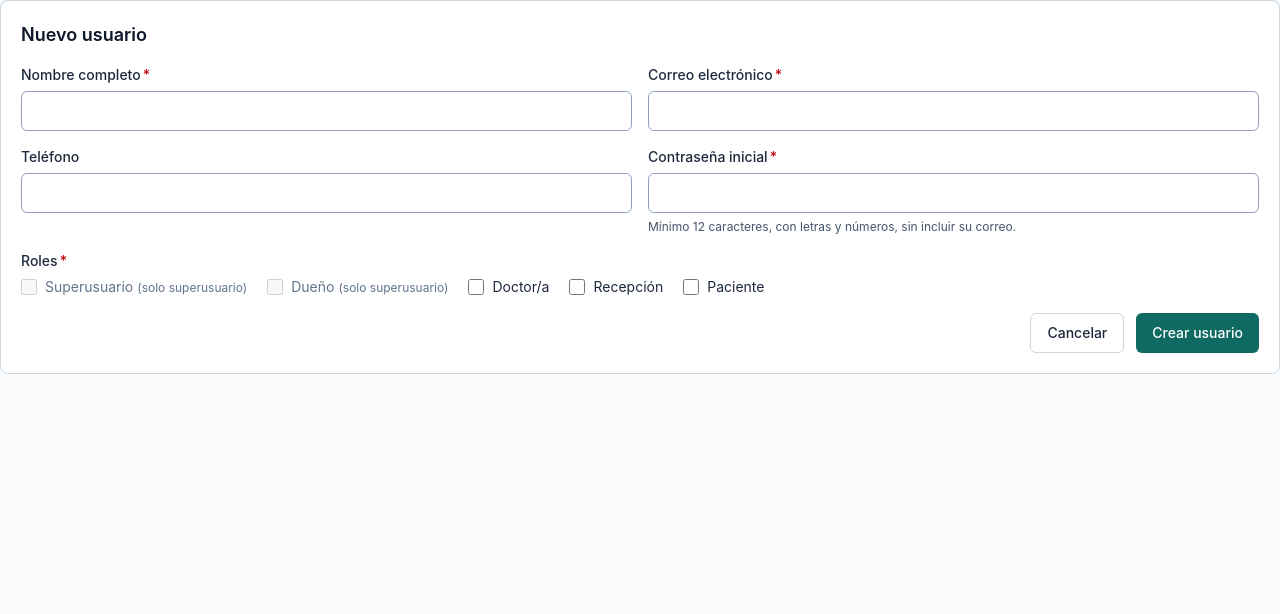
UserCreateForm › envía doctor_profile solo para doctores y muestra el 409 junto al correo
Type "Dra. Prueba" into the field labelled "Nombre completo*" at (326, 111), box x1=21 y1=91 x2=632 y2=131
Type "dra@clinica-demo.pe" into the field labelled "Correo electrónico*" at (954, 111), box x1=648 y1=91 x2=1259 y2=131
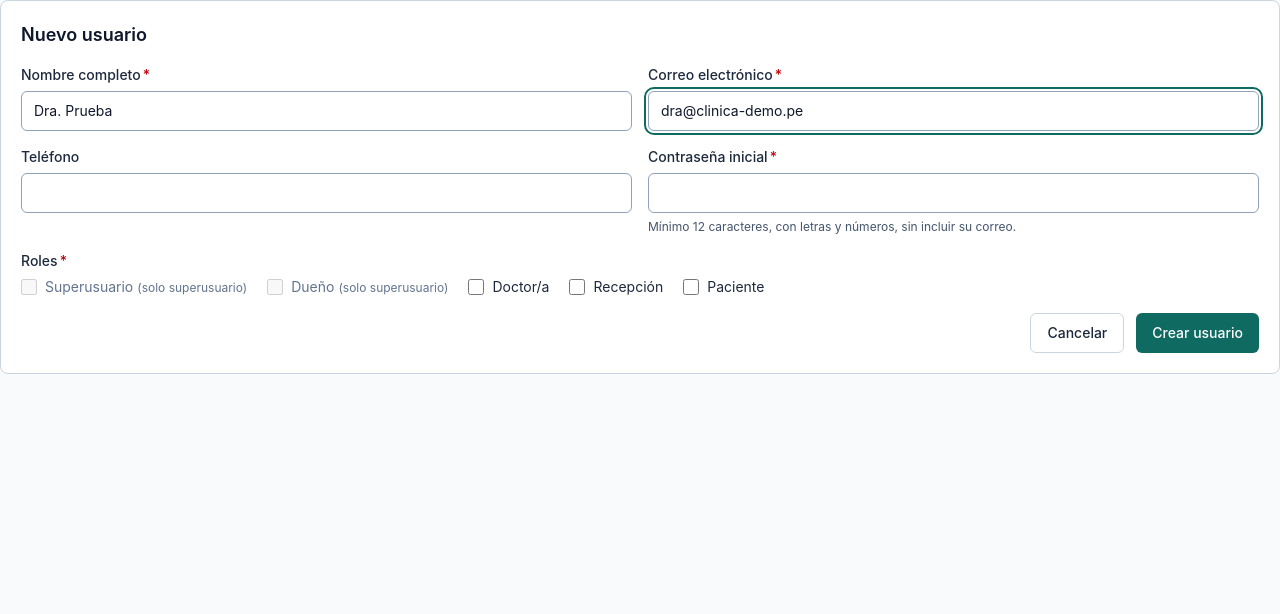
Type "Clave-Segura-2026" into the password field labelled "Contraseña inicial*" at (954, 193), box x1=648 y1=173 x2=1259 y2=213
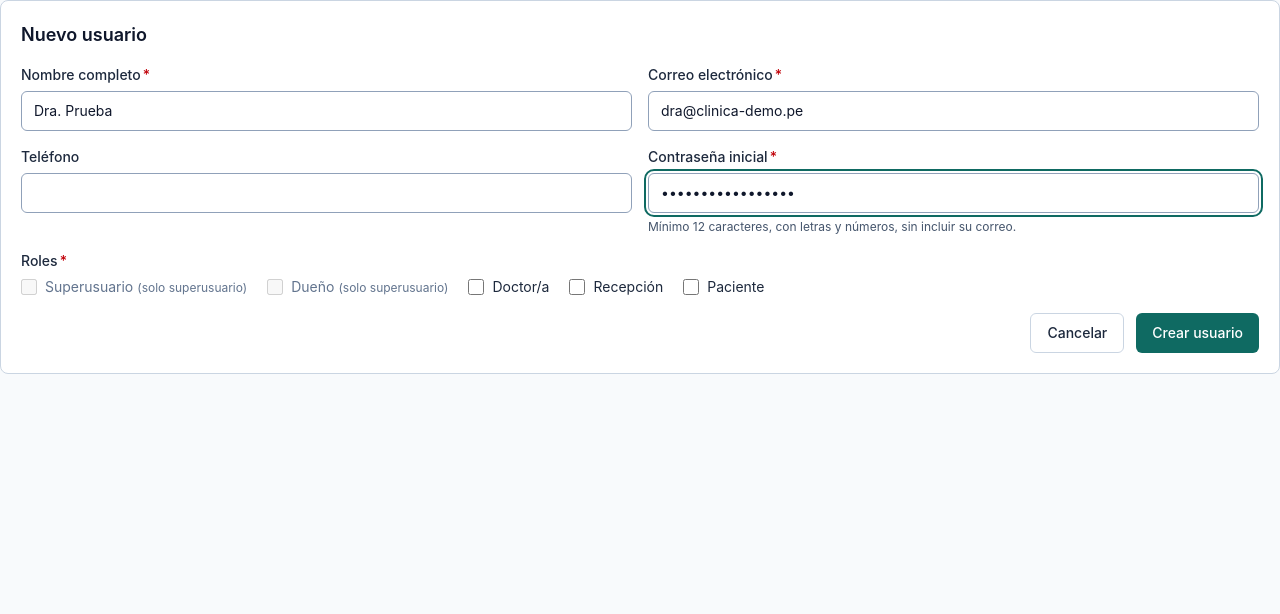
Click the checkbox labelled "Doctor/a" at (476, 287), box x1=468 y1=279 x2=484 y2=295
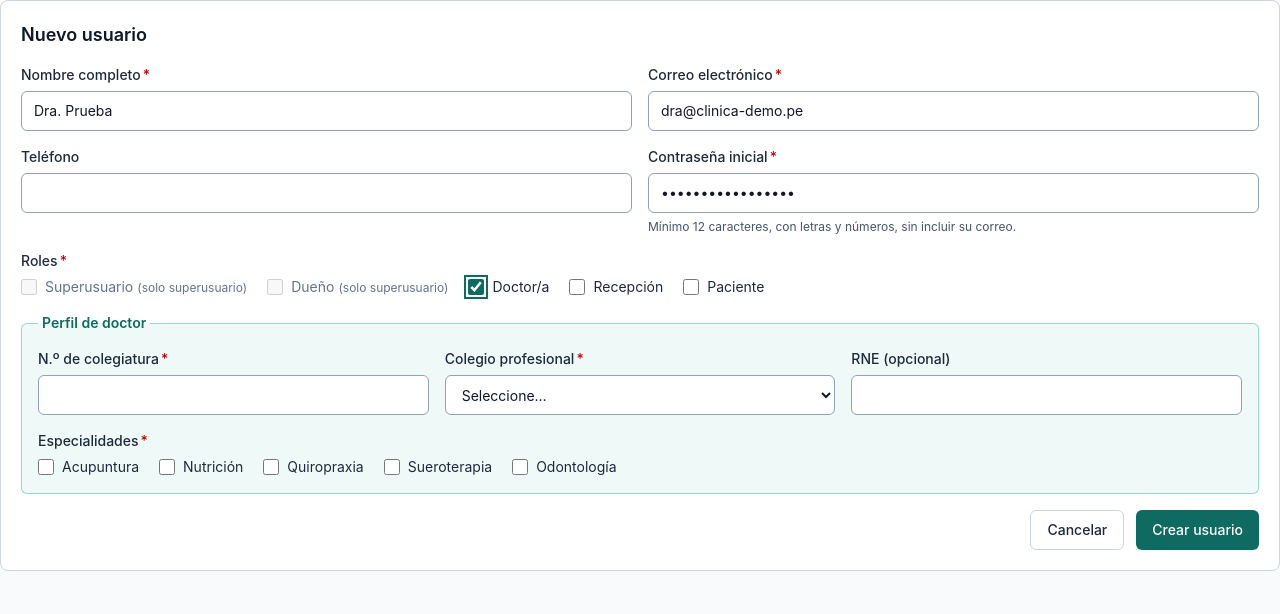
Type "12345" into the field labelled "N.º de colegiatura*" at (233, 395), box x1=38 y1=375 x2=429 y2=415
Select "CMP · Colegio Médico del Perú" in the dropdown labelled "Colegio profesional*" at (640, 395), box x1=445 y1=375 x2=835 y2=415
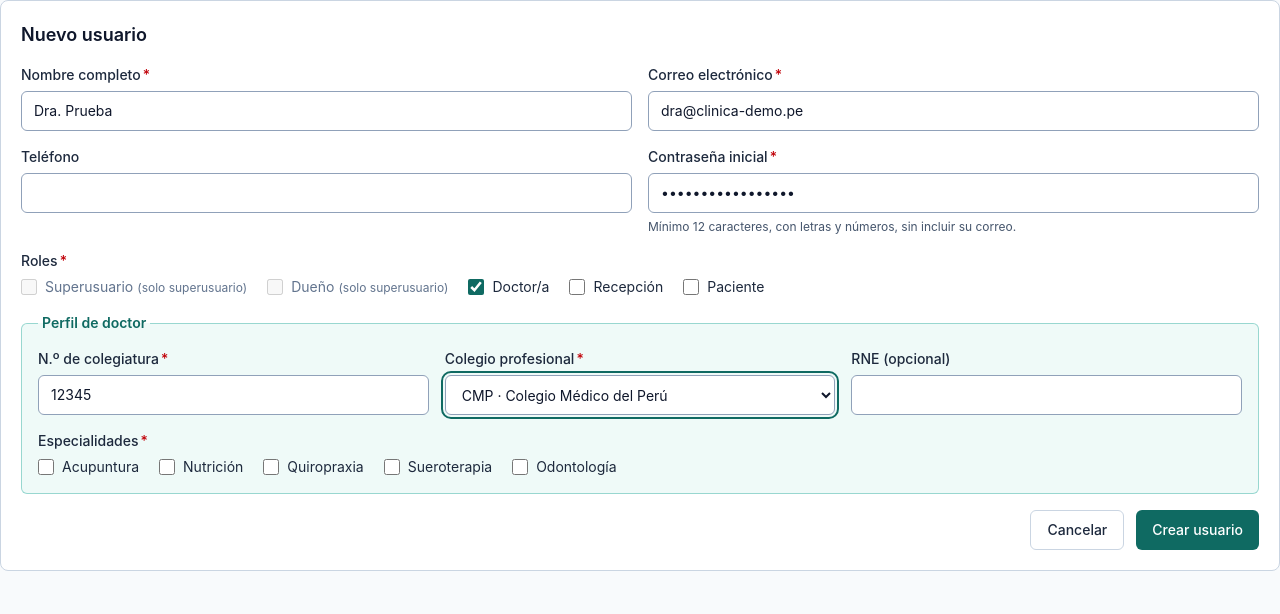
Click the checkbox labelled "Nutrición" at (167, 467), box x1=159 y1=459 x2=175 y2=475
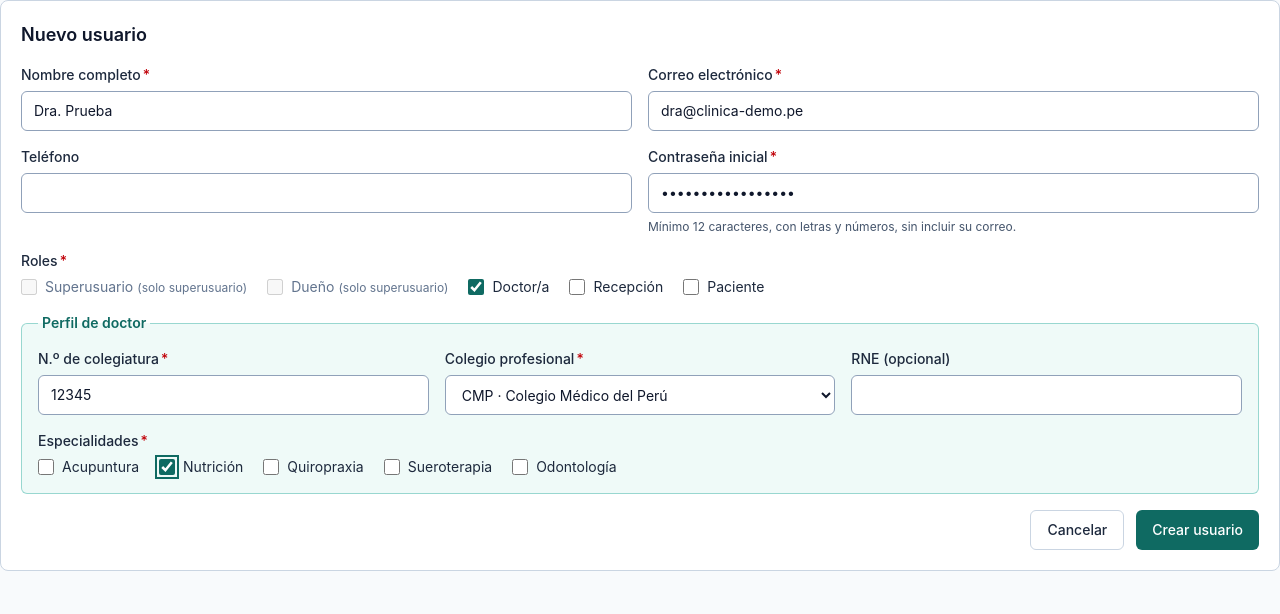
Click the button "Crear usuario" at (1198, 530), box x1=1136 y1=510 x2=1259 y2=550
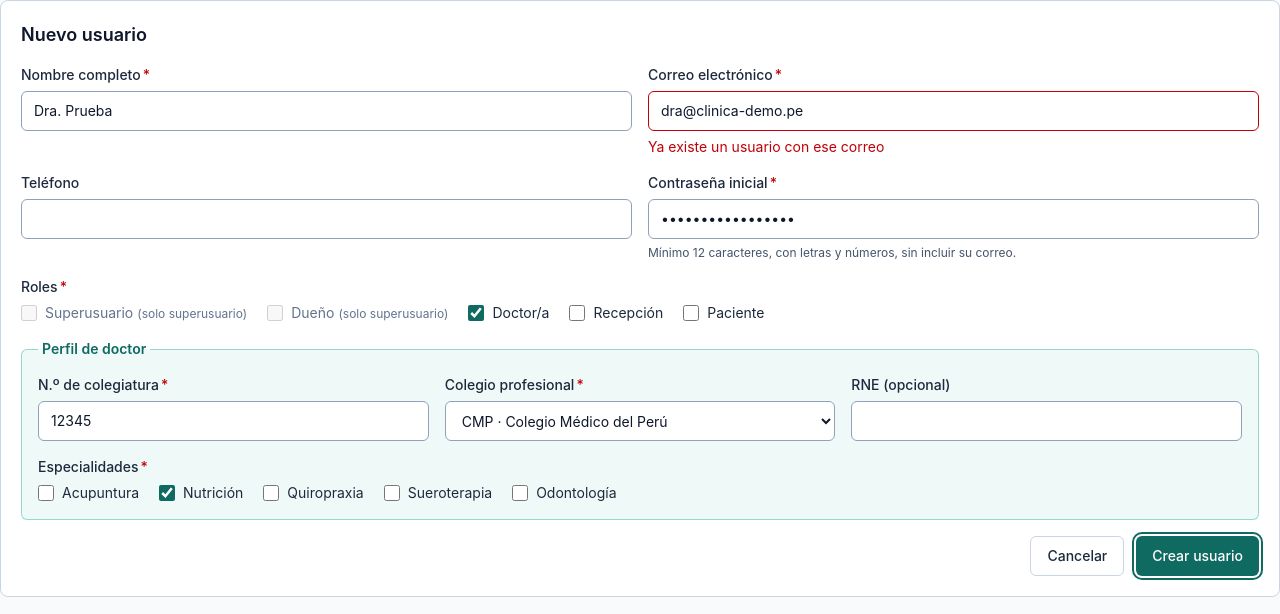
Result: the text "Ya existe un usuario con ese correo" is shown at x1=648 y1=138 x2=884 y2=155
